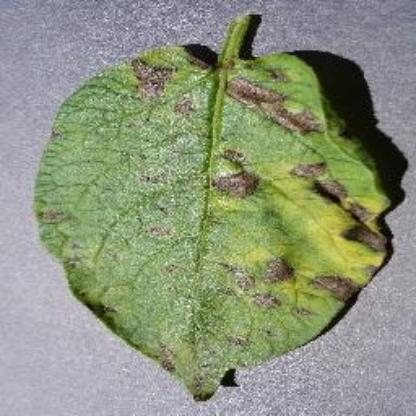Early-Blight: (38, 12, 400, 402)
